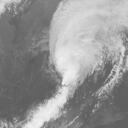cyclone: (50, 21, 99, 85)
